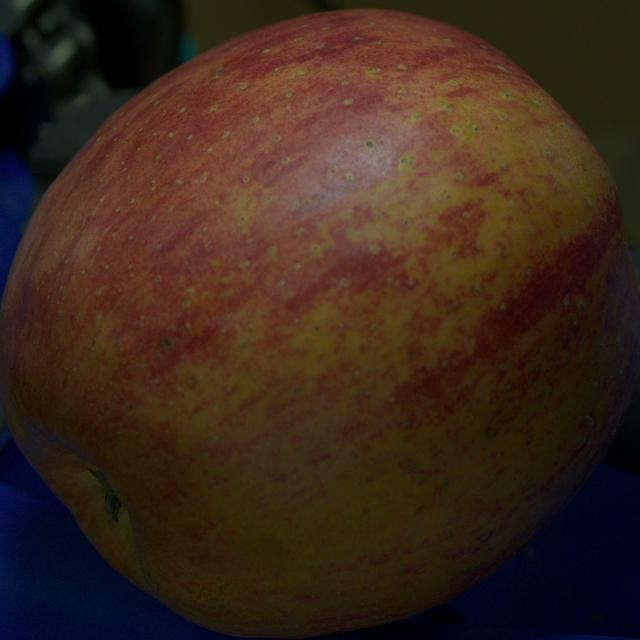apple: (0, 9, 639, 637)
